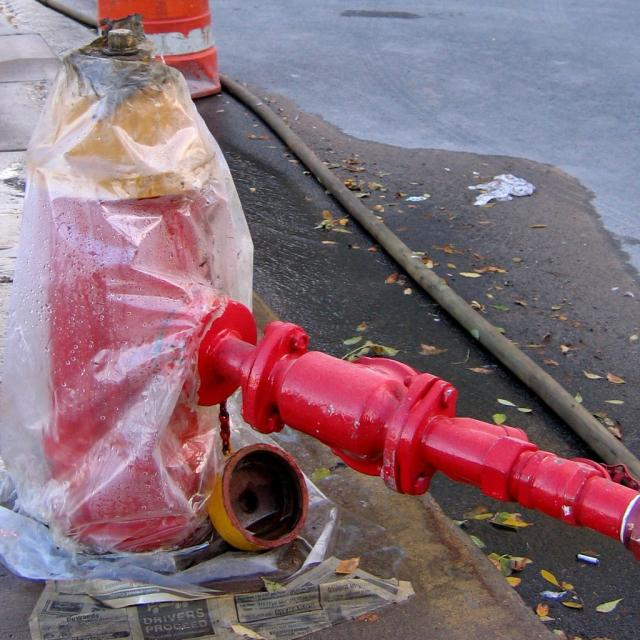fire_hydrant: (46, 15, 638, 546)
